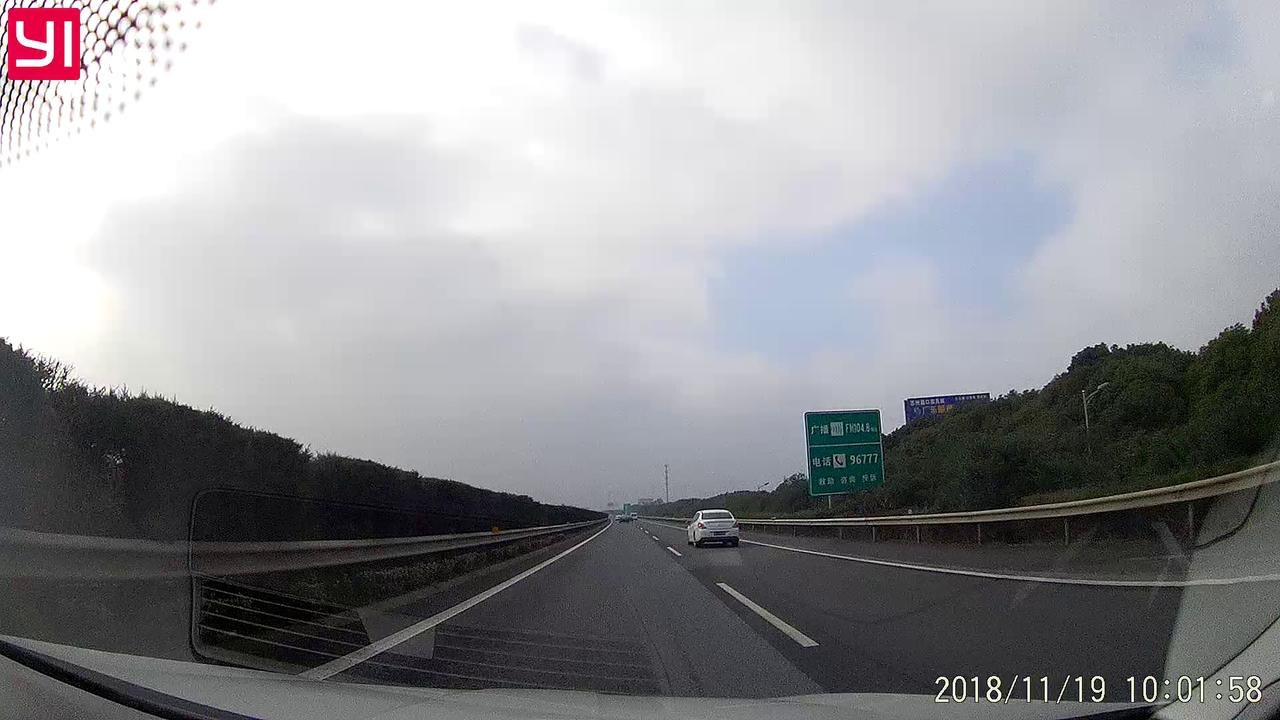car: (685, 508, 739, 547)
